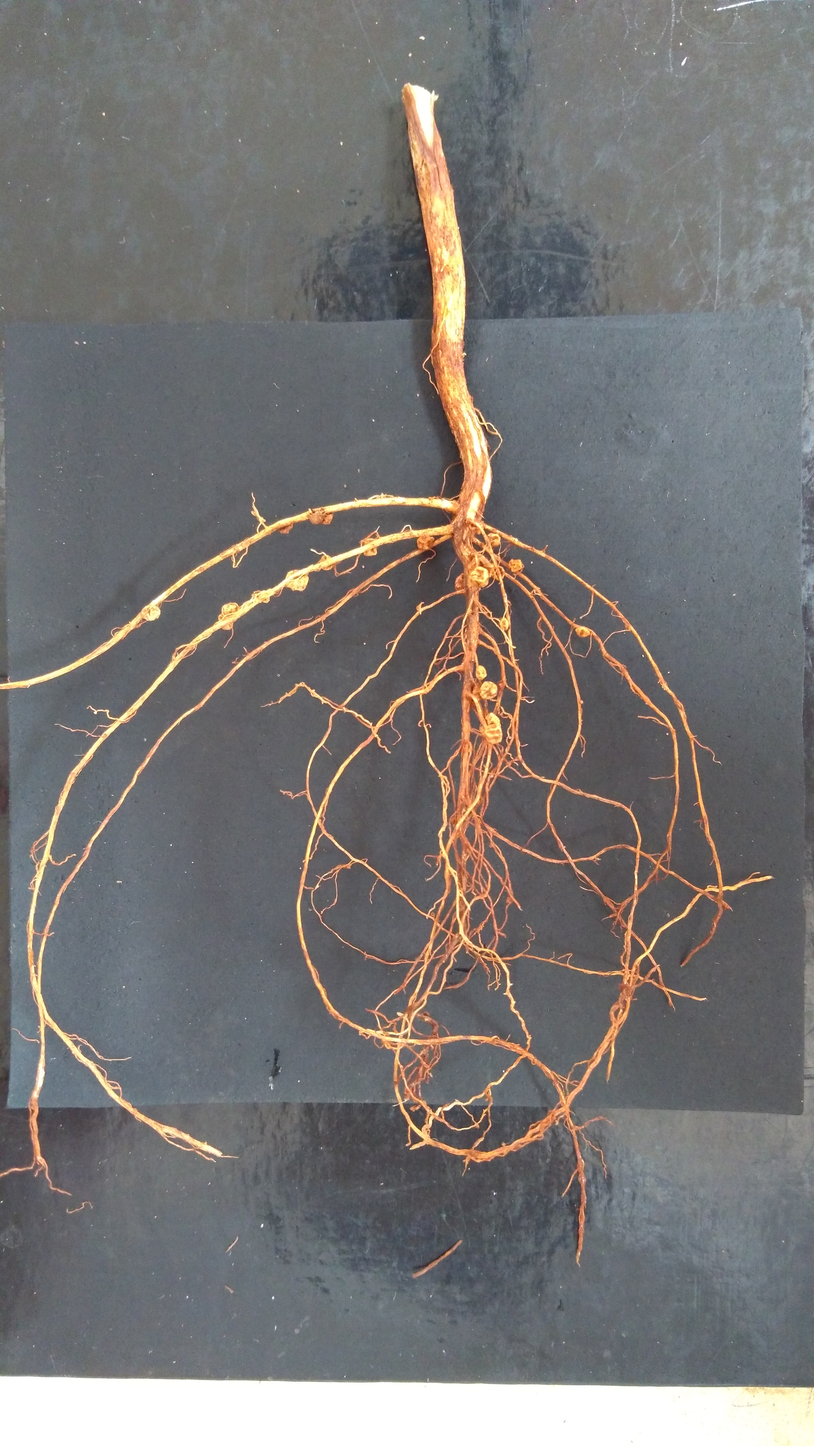nodule: (479, 712, 502, 744), (285, 569, 308, 591), (470, 566, 489, 587), (451, 808, 468, 830), (479, 681, 497, 699), (472, 678, 483, 706), (141, 605, 160, 621), (309, 513, 333, 525), (454, 573, 467, 595), (363, 538, 377, 556), (251, 590, 270, 603), (218, 614, 233, 630), (417, 535, 434, 549), (490, 565, 505, 580), (222, 602, 239, 615), (509, 559, 522, 575), (487, 533, 501, 547), (320, 555, 333, 570), (475, 665, 487, 680), (277, 524, 293, 534), (575, 627, 590, 637), (498, 618, 508, 631), (476, 523, 484, 534), (498, 680, 503, 689)
